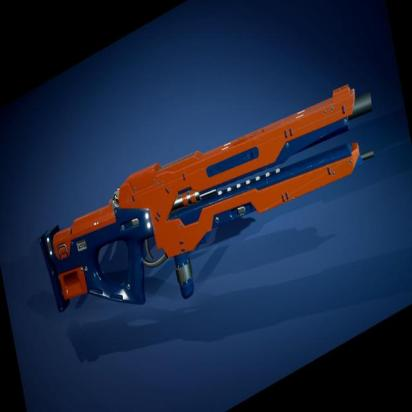Gun: (38, 77, 378, 316)
